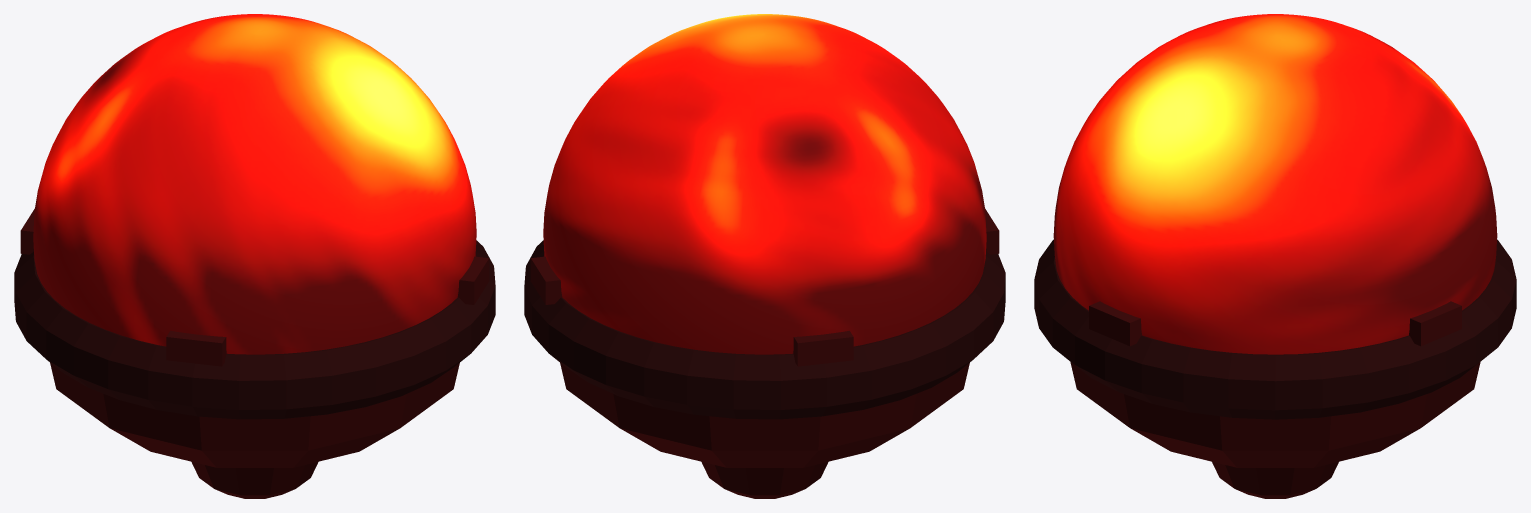
File: satellite-marlo.glb
3 renders of one model, left to right at view 1: azimuth 30°, elevation 25°; view 2: azimuth 150°, elevation 25°; view 3: azimuth 270°, elevation 25°, orthographic.
Parts seen in each view (by area): view 1: sidekick-satellite-marlo-orb, sidekick-satellite-marlo-collar, sidekick-satellite-marlo-cradle; view 2: sidekick-satellite-marlo-orb, sidekick-satellite-marlo-collar, sidekick-satellite-marlo-cradle; view 3: sidekick-satellite-marlo-orb, sidekick-satellite-marlo-collar, sidekick-satellite-marlo-cradle.
Boxes of the visible parts, x1,y1,x2,y2 form: sidekick-satellite-marlo-orb: (33, 14, 476, 354); sidekick-satellite-marlo-collar: (14, 208, 495, 419); sidekick-satellite-marlo-cradle: (50, 363, 459, 498); sidekick-satellite-marlo-orb: (543, 14, 986, 354); sidekick-satellite-marlo-collar: (524, 208, 1005, 419); sidekick-satellite-marlo-cradle: (560, 363, 969, 498); sidekick-satellite-marlo-orb: (1053, 14, 1497, 354); sidekick-satellite-marlo-collar: (1034, 239, 1516, 419); sidekick-satellite-marlo-cradle: (1070, 362, 1480, 498).
Bounding box in the file's own units: 0.625 × 0.6417 × 0.625.
3 materials, 1 textured.
